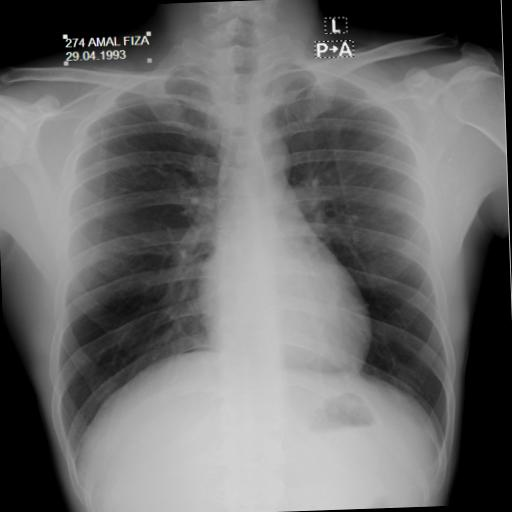normal: (38, 32, 460, 465)
